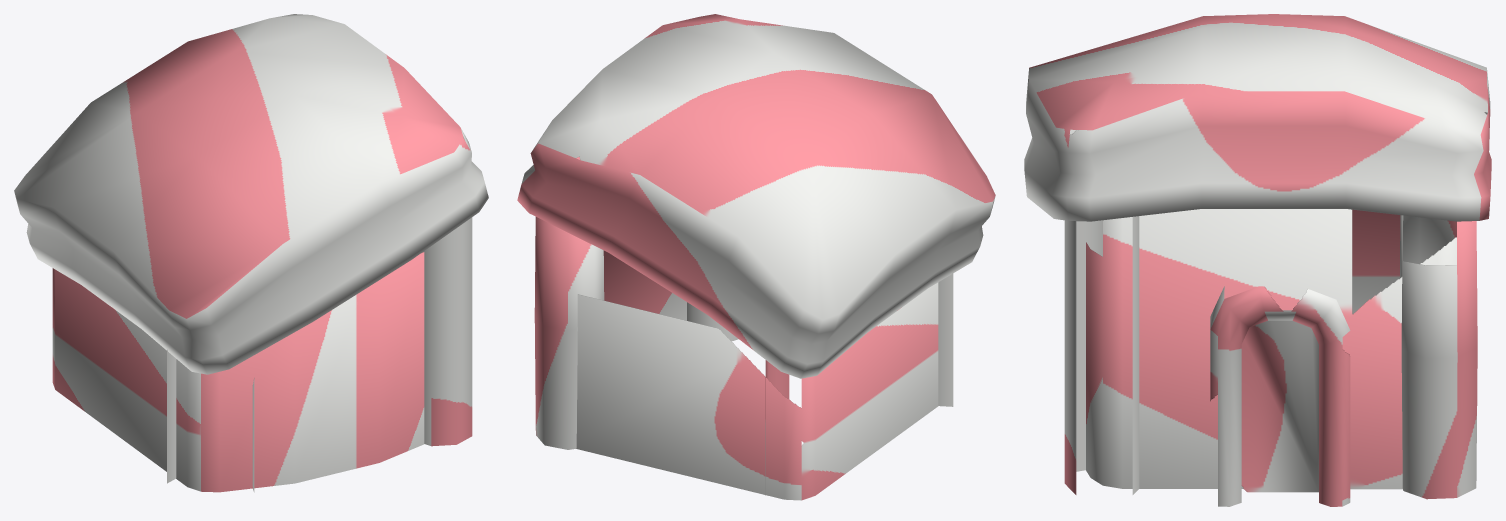
The model's file is farm_mellow.fbx.
The picture shows the model from 3 angles, left to right: view 1: azimuth 30°, elevation 25°; view 2: azimuth 150°, elevation 25°; view 3: azimuth 270°, elevation 25°; orthographic projection. The views are drawn at different scales.
Parts seen in each view (by area): view 1: farm_mellow; view 2: farm_mellow; view 3: farm_mellow.
Boxes of the visible parts, x1,y1,x2,y2 form: farm_mellow: [14, 14, 488, 492]; farm_mellow: [517, 14, 995, 500]; farm_mellow: [1024, 14, 1491, 506].
Size of the model in its own units: 1537 by 1506 by 1607.
